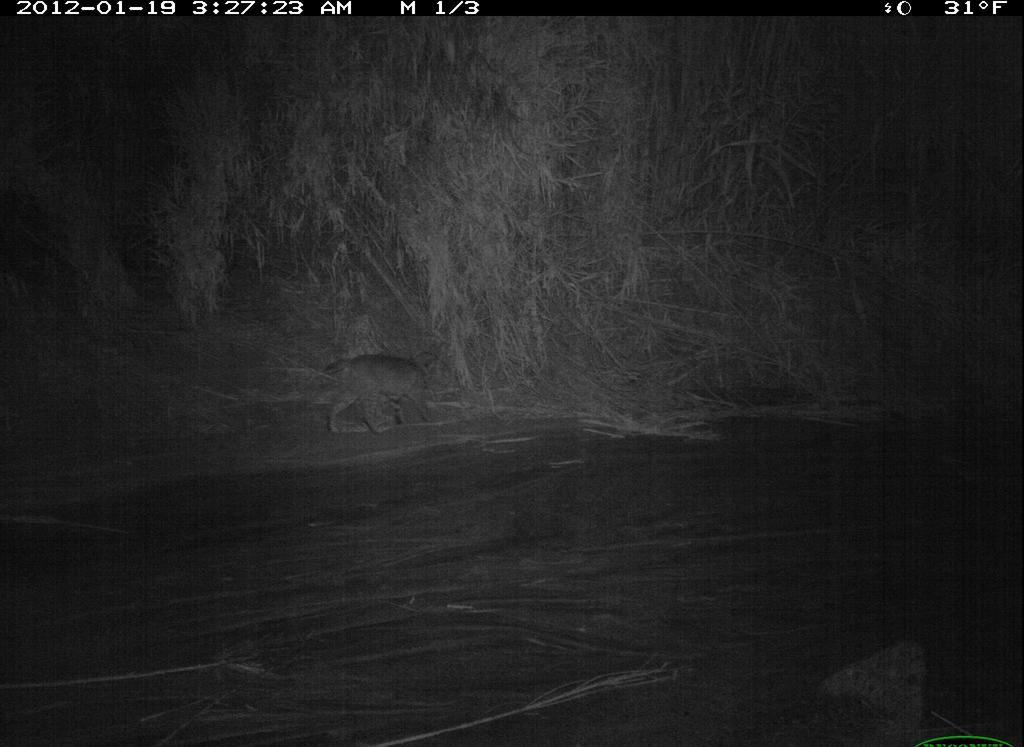bobcat: (308, 344, 452, 438)
